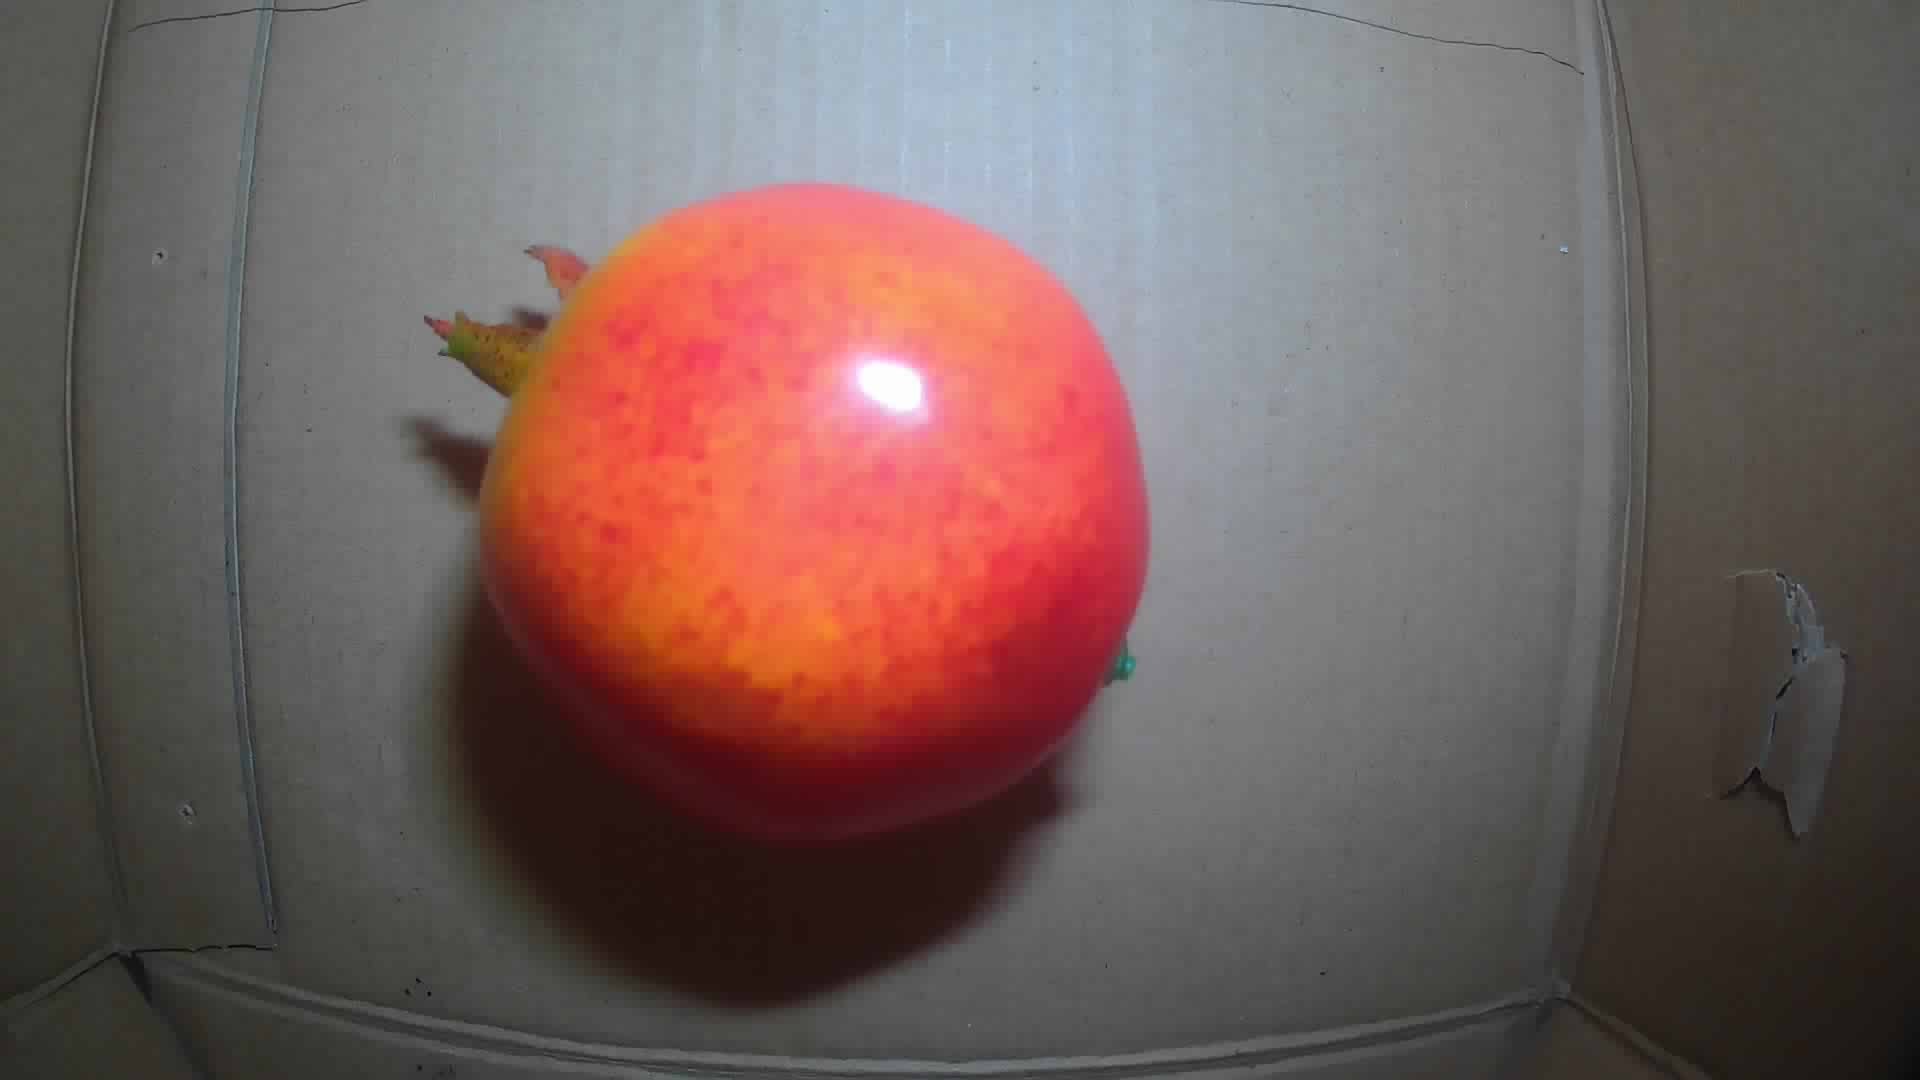pomegranate: (415, 182, 1155, 841)
